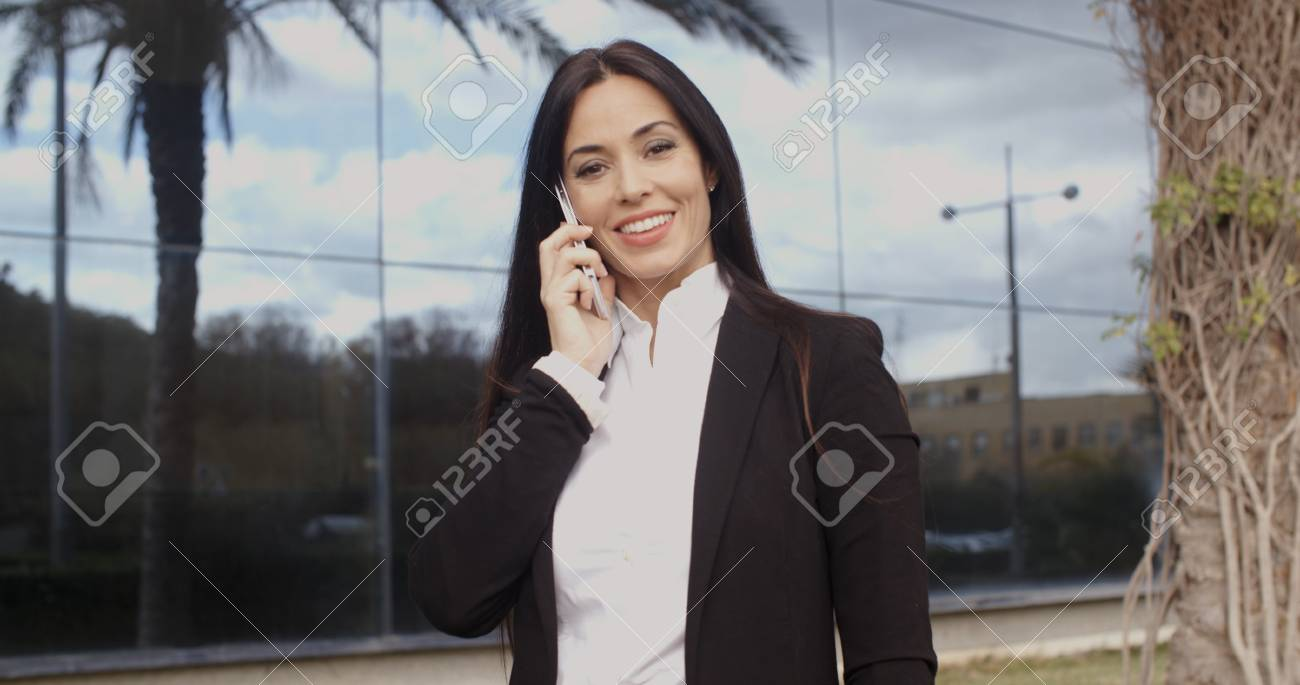phone: (534, 179, 608, 339)
talk: (514, 115, 715, 354)
